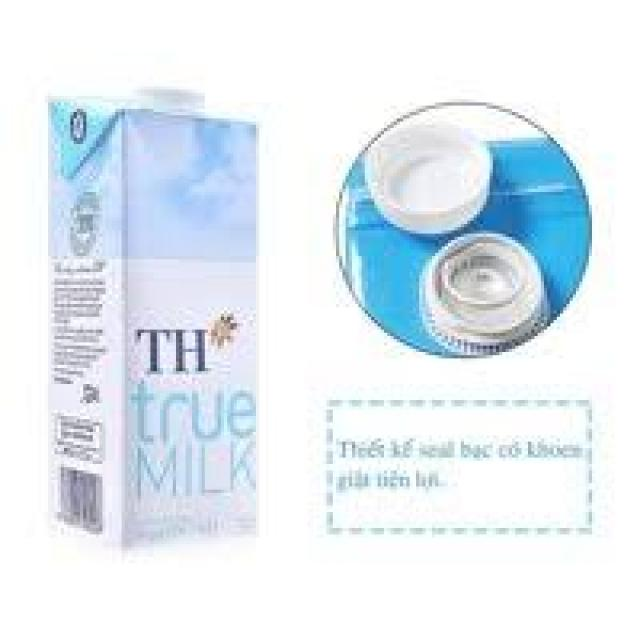non_white_jug: (28, 43, 282, 539)
